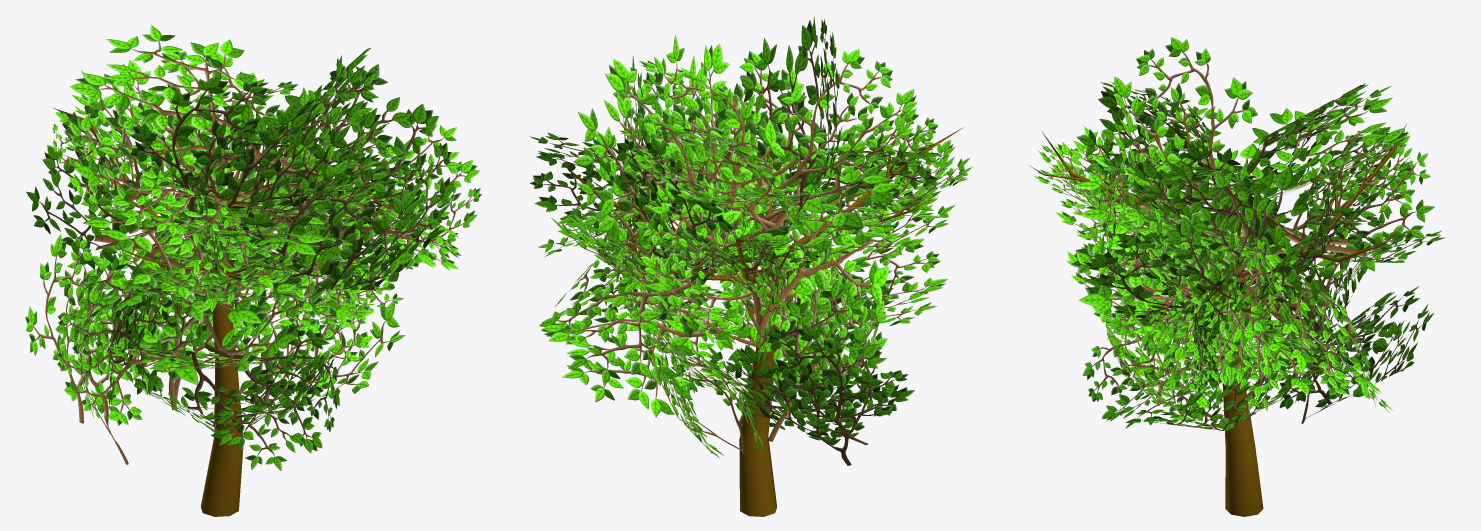
The model's file is Tree 2.fbx.
3 renders of one model, left to right at view 1: azimuth 30°, elevation 25°; view 2: azimuth 150°, elevation 25°; view 3: azimuth 270°, elevation 25°, orthographic. The views are drawn at different scales.
Parts seen in each view (by area): view 1: Tree; view 2: Tree; view 3: Tree.
Boxes of the visible parts, bbox=[...] form: Tree: bbox=[25, 25, 481, 516]; Tree: bbox=[529, 16, 972, 516]; Tree: bbox=[1029, 37, 1445, 516].
Bounding box in the file's own units: 14.13 × 14.8 × 12.75.
